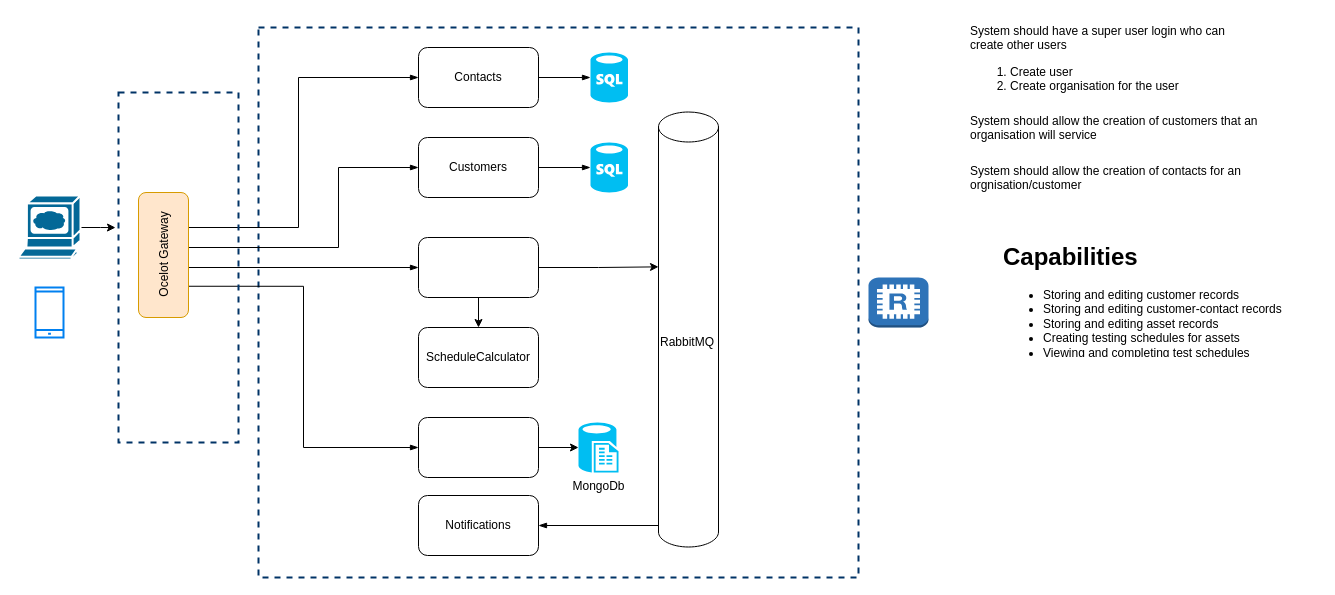
This 1335x595 diagram has some shape labels left out. The box of each missing label's shape, as (x1, y1, x2, y2) in pixels:
Assets: (418, 416, 538, 478)
Redis Cache: (868, 276, 928, 328)
Scheduler: (418, 236, 538, 298)
